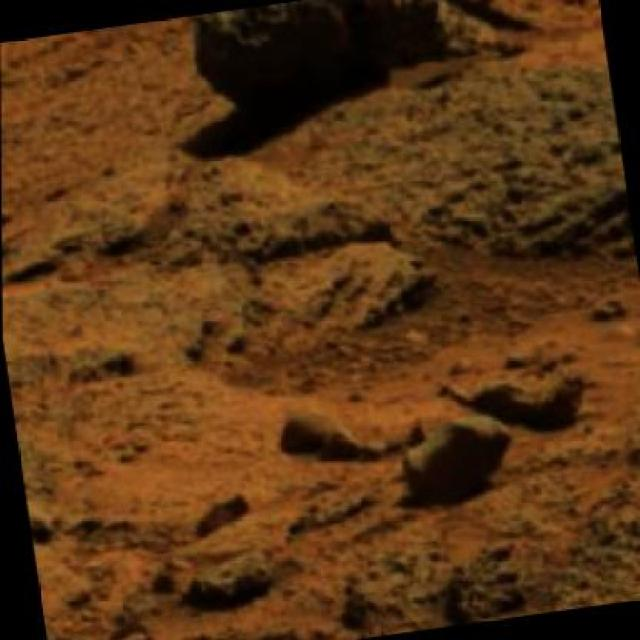rock: (178, 0, 461, 115), (390, 406, 516, 502)
